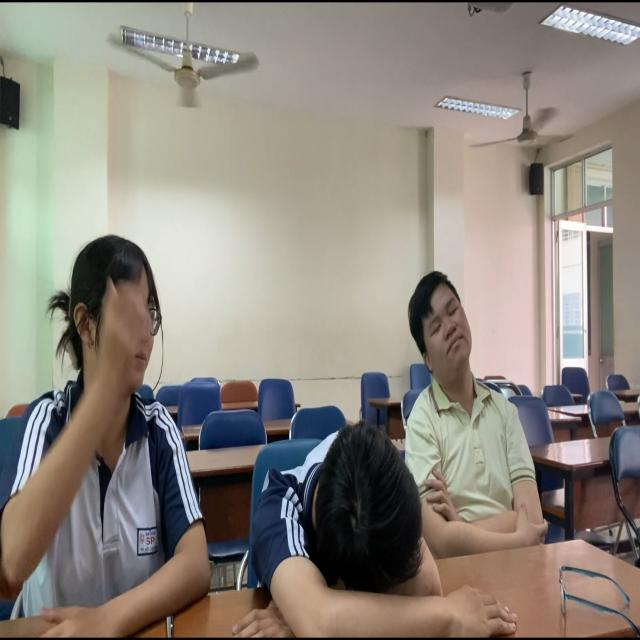raise_hand: (1, 237, 211, 640)
sleep: (241, 430, 448, 640)
